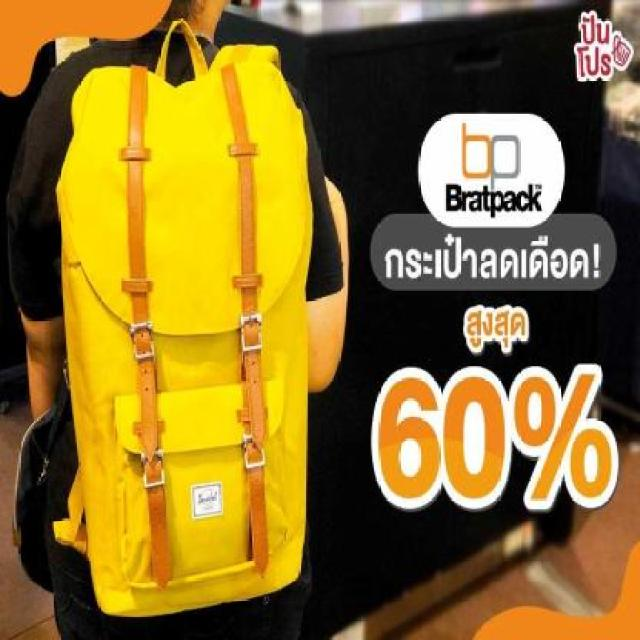Bag: (47, 19, 330, 624)
